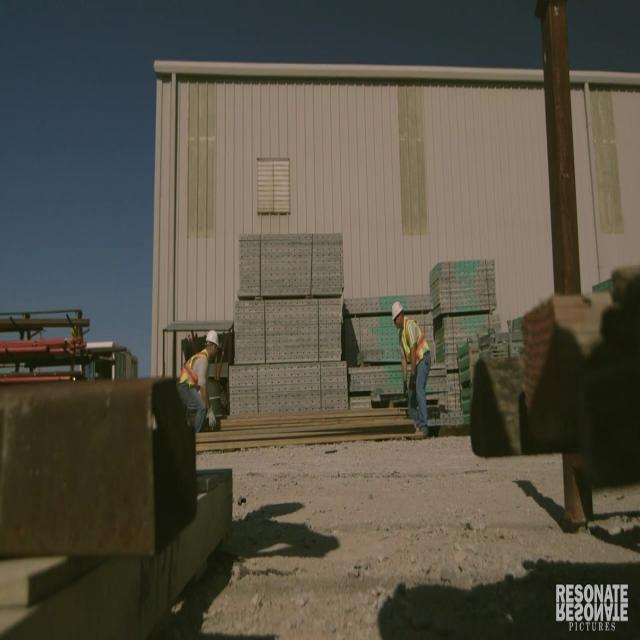Reflective-Jacket: (175, 345, 214, 404), (398, 316, 432, 372)
Safety-Helmet: (203, 324, 223, 354), (388, 297, 406, 327)
